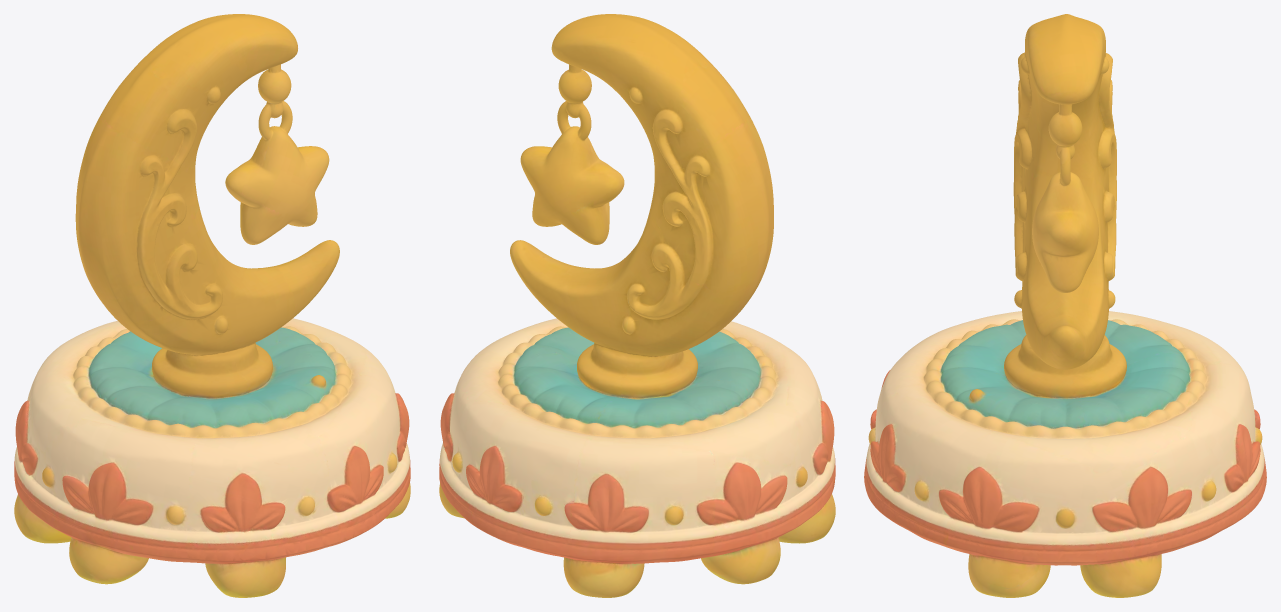
File: Meshy_AI_model.glb
3 views of the same model, side by side, from view 1: azimuth 30°, elevation 25°; view 2: azimuth 150°, elevation 25°; view 3: azimuth 270°, elevation 25° (orthographic).
Parts seen in each view (by area): view 1: mesh_node; view 2: mesh_node; view 3: mesh_node.
Part boxes in pixels (x1,y1,x2,y2): mesh_node: [14, 14, 410, 597]; mesh_node: [439, 14, 835, 597]; mesh_node: [864, 14, 1266, 597].
Bounding box in the file's own units: 1.38 × 1.9 × 1.39.
Materials: 1 (1 with a texture image).
